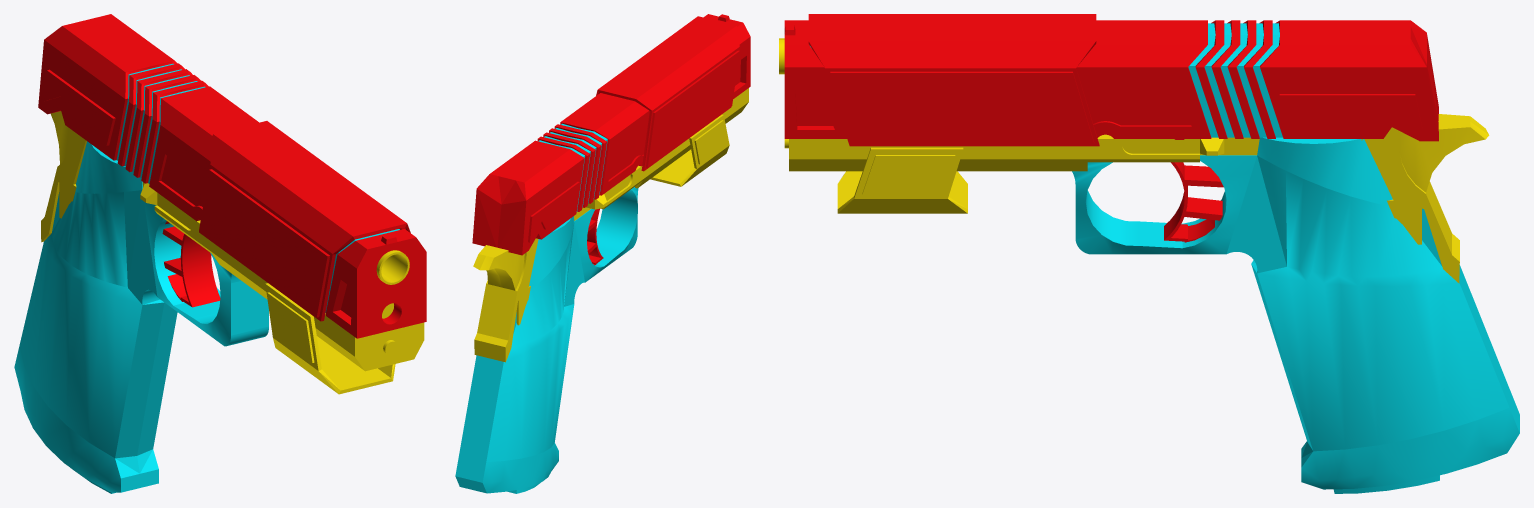
The model's file is enemy_gun.fbx.
The picture shows the model from 3 angles, left to right: view 1: azimuth 30°, elevation 25°; view 2: azimuth 150°, elevation 25°; view 3: azimuth 270°, elevation 25°; orthographic projection. The views are drawn at different scales.
Visible parts, largest first — view 1: Model; view 2: Model; view 3: Model.
Part boxes in pixels (box(x1,y1,x2,y2)): Model: box(14, 14, 426, 493); Model: box(455, 14, 750, 493); Model: box(779, 14, 1519, 493).
Bounding box in the file's own units: 12.66 × 64.56 × 94.19.
